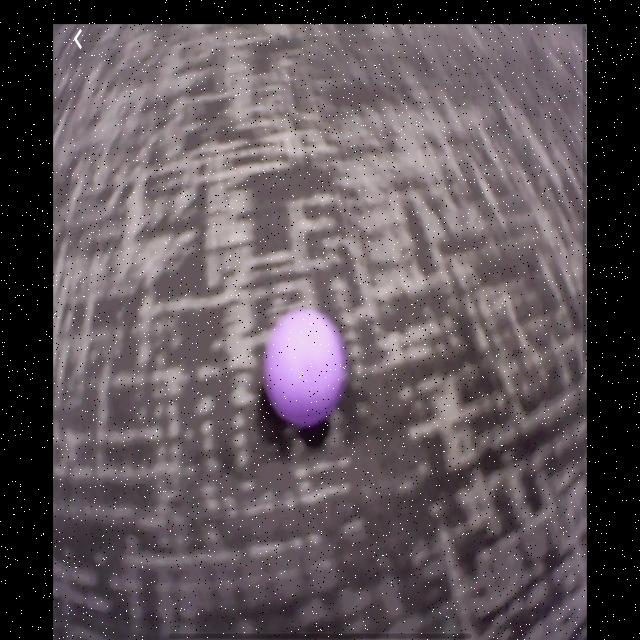ball: (266, 307, 343, 428)
